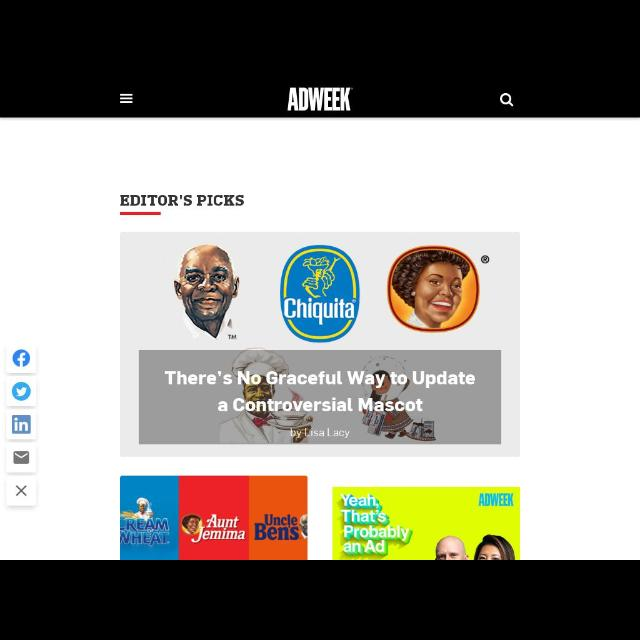button: (7, 476, 37, 506), (7, 378, 37, 407), (7, 443, 36, 473), (8, 410, 36, 440), (7, 346, 36, 372)
icon: (15, 452, 30, 464), (501, 94, 514, 106), (16, 486, 28, 496), (120, 94, 132, 102)
image: (122, 234, 520, 456), (120, 475, 308, 559), (332, 487, 520, 559), (12, 382, 30, 401), (12, 416, 30, 434), (12, 349, 30, 366)
text: (288, 88, 350, 110), (120, 196, 244, 207)
toolbar: (1, 80, 639, 118)
